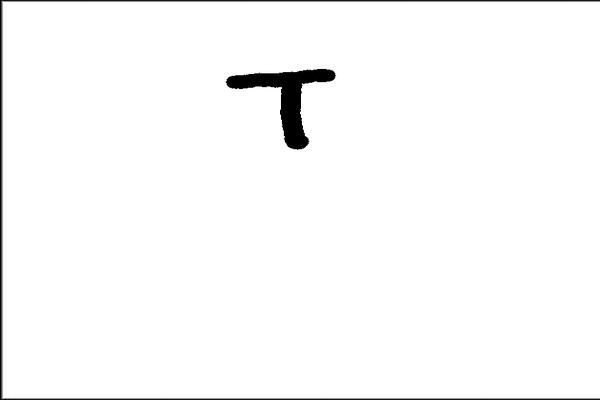T: (218, 63, 344, 150)
